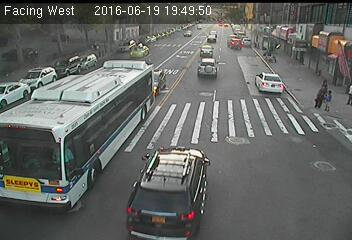neg: (44, 136, 77, 180), (11, 169, 42, 210), (140, 74, 167, 110), (266, 39, 288, 68), (292, 38, 311, 63)
pos: (312, 83, 333, 110), (321, 88, 340, 114)
